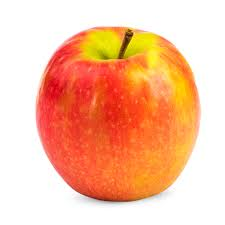apple: (38, 33, 201, 206)
